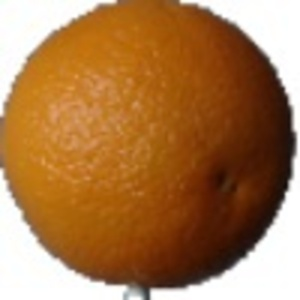laranja: (4, 3, 296, 295)
